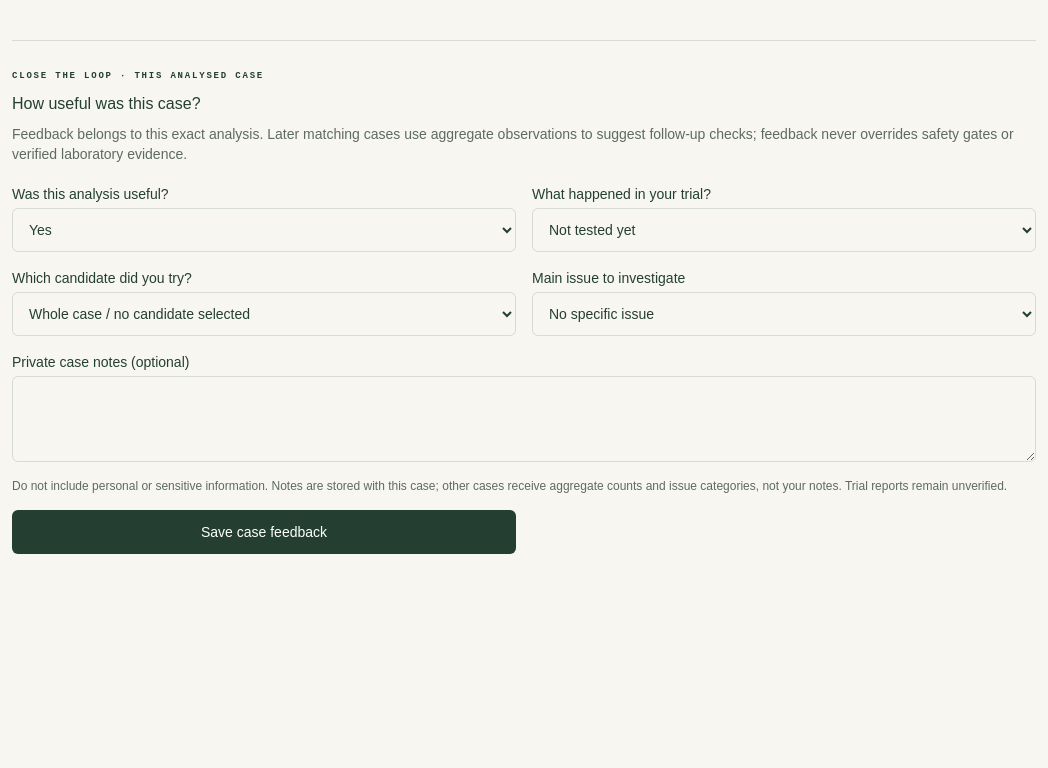
keeps errors visible and never claims an unsuccessful save
The image size is (1048, 768).
Click the button "Save case feedback" at point(264, 532), box x1=12 y1=510 x2=516 y2=554
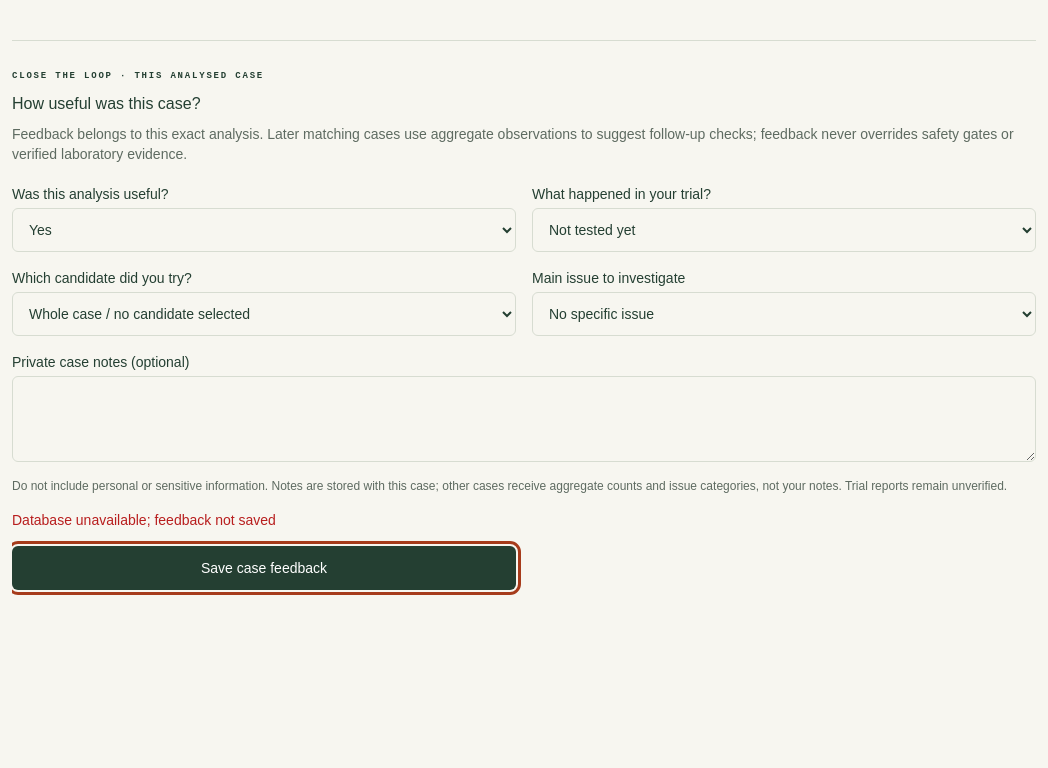
Expected: the message shows "feedback not saved", x1=12 y1=512 x2=276 y2=528
